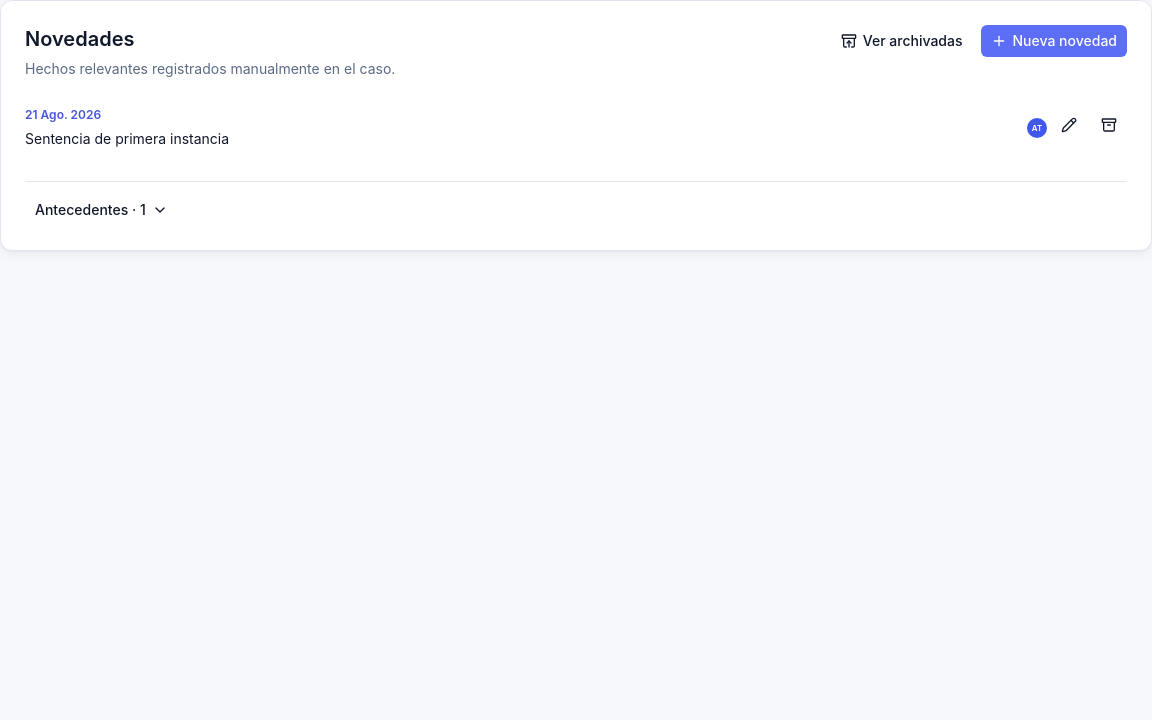
Test: CaseUpdatesSection › marks the empty date instead of a valid description
Click the button "Nueva novedad": x=1054, y=41 [980, 25, 1127, 57]
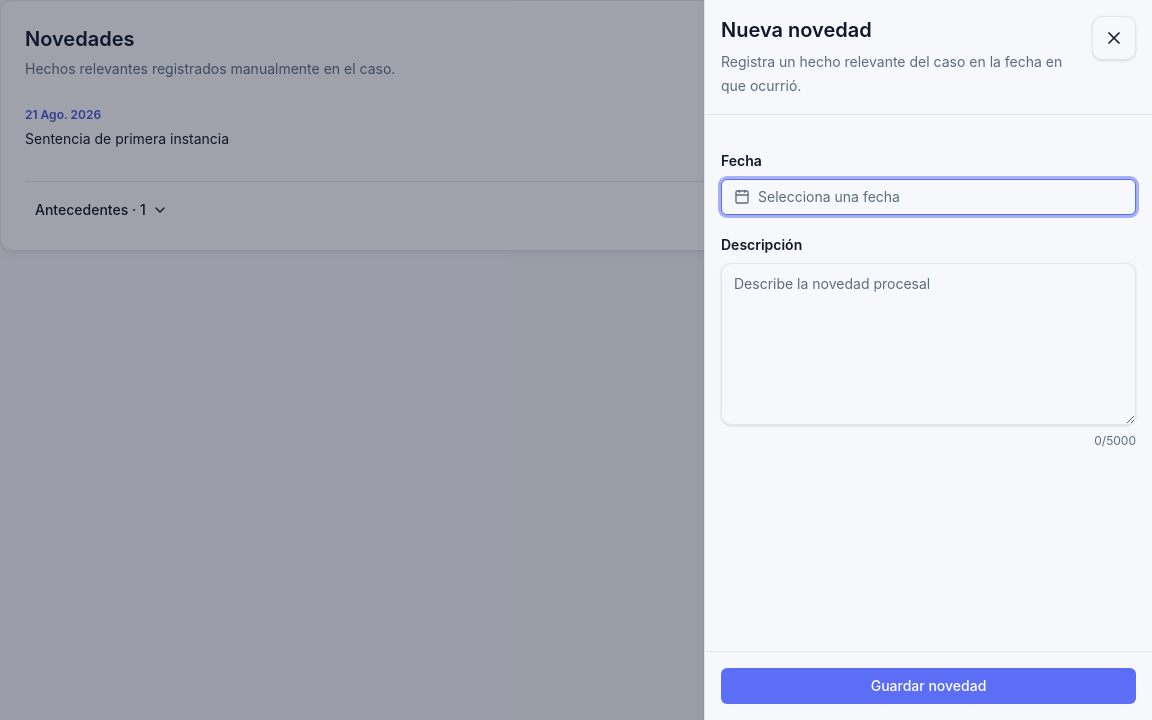
In the text box labelled "Descripción": x=928, y=344 [721, 263, 1136, 425], type "Recurso de apelación del cliente"
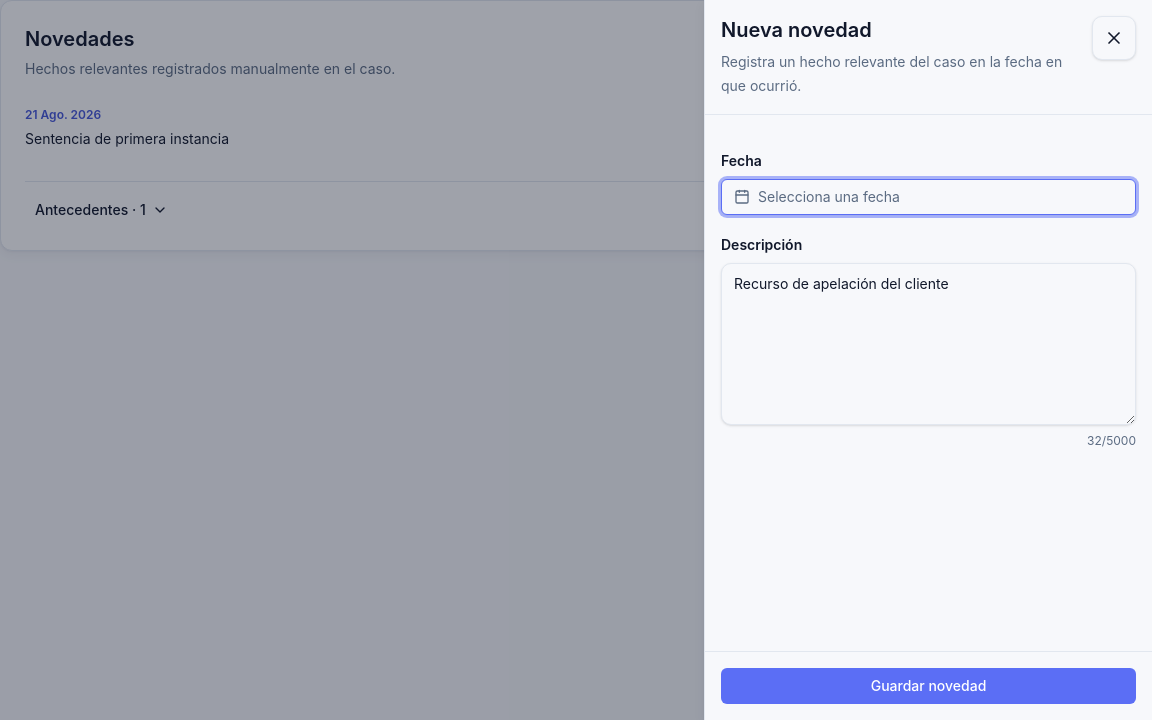
Click the button "Guardar novedad": x=928, y=686 [721, 668, 1136, 704]
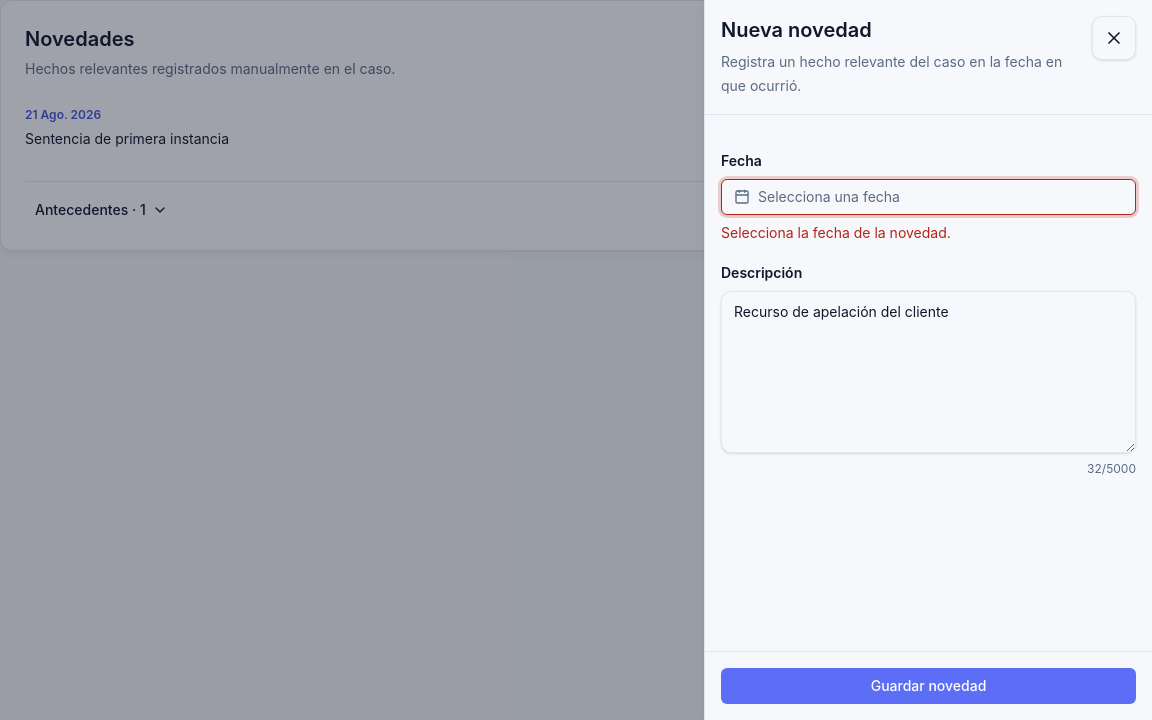
Now the message reads "Selecciona la fecha de la novedad.", box [721, 224, 951, 241]
